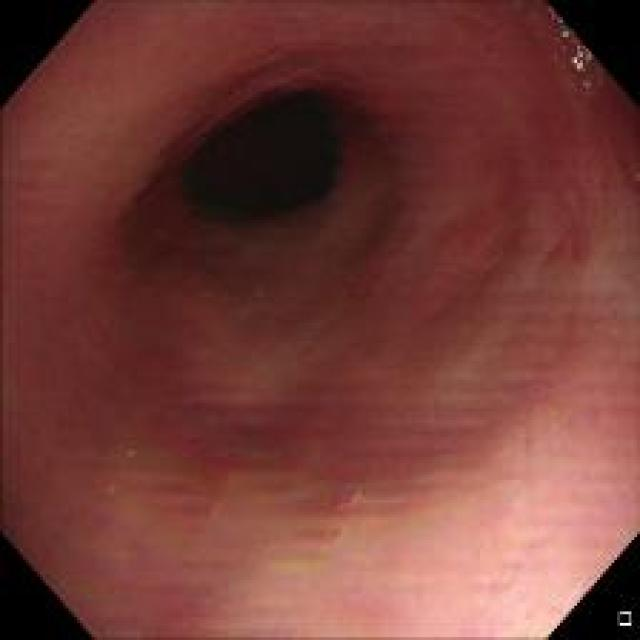color misalignment: (550, 9, 596, 89)
contrast: (170, 64, 371, 242)
